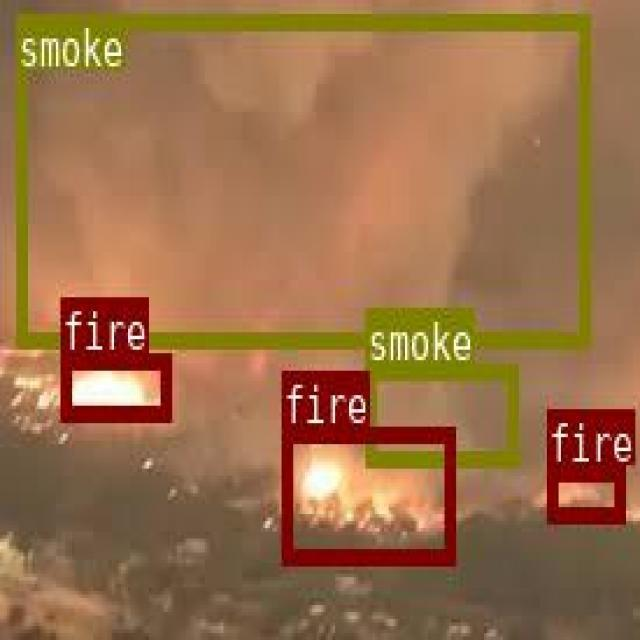fire: (281, 425, 452, 560), (59, 353, 169, 418), (546, 465, 623, 521)
smoke: (16, 12, 586, 343), (364, 361, 517, 462)
